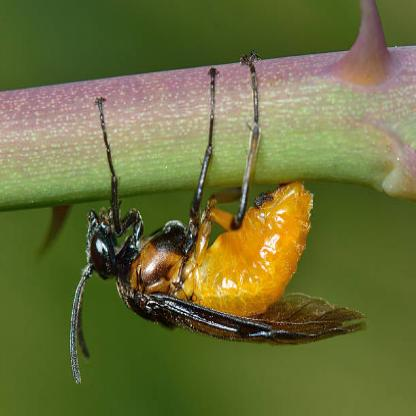sawfly: (57, 51, 370, 385)
